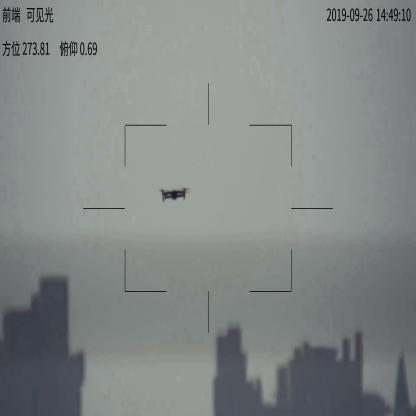uav: (153, 187, 192, 206)
